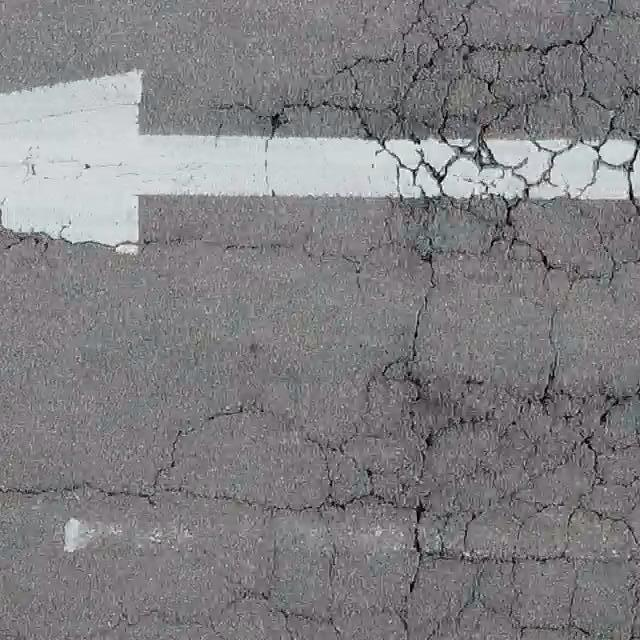GRIETA: (91, 593, 247, 635), (0, 221, 197, 250), (228, 242, 375, 269), (0, 483, 133, 495)
PIEL DE COCODRILO: (135, 0, 639, 639)
